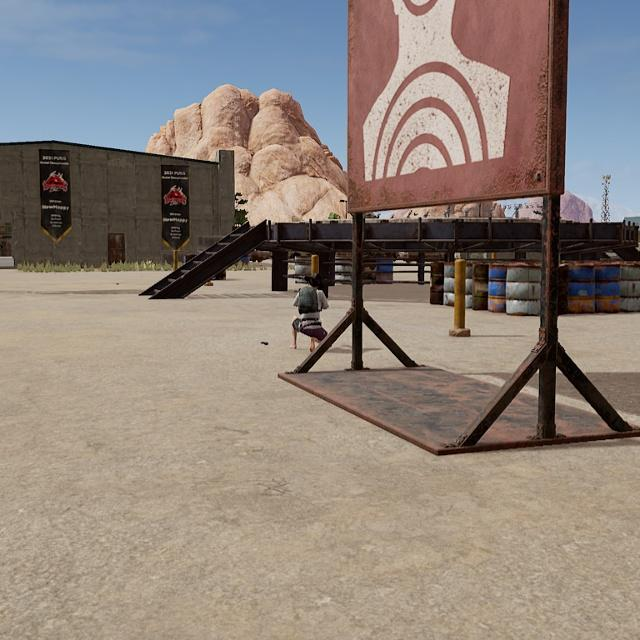head: (305, 270, 322, 290)
people: (290, 268, 333, 356)
